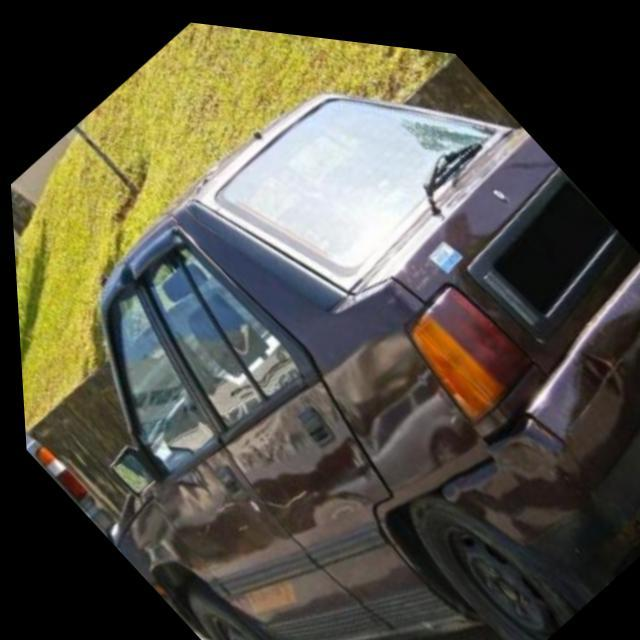dent: (517, 272, 640, 477)
